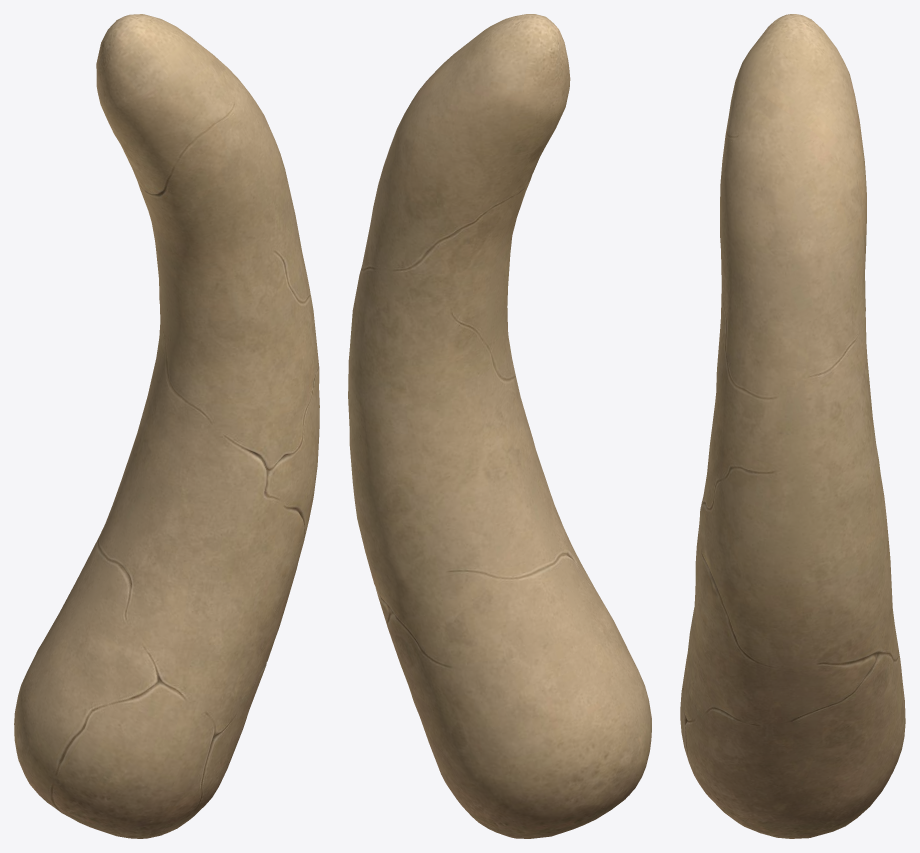
File: tb_bone_01c.glb
The picture shows the model from 3 angles, left to right: view 1: azimuth 30°, elevation 25°; view 2: azimuth 150°, elevation 25°; view 3: azimuth 270°, elevation 25°; orthographic projection.
Visible parts, largest first — view 1: tb_bone_01c; view 2: tb_bone_01c; view 3: tb_bone_01c.
Part boxes in pixels (x1,y1,x2,y2): tb_bone_01c: (14,14,319,838); tb_bone_01c: (348,14,651,838); tb_bone_01c: (680,14,905,838).
Bounding box in the file's own units: 3.61 × 9.96 × 2.5.
Materials: 1 (1 with a texture image).
